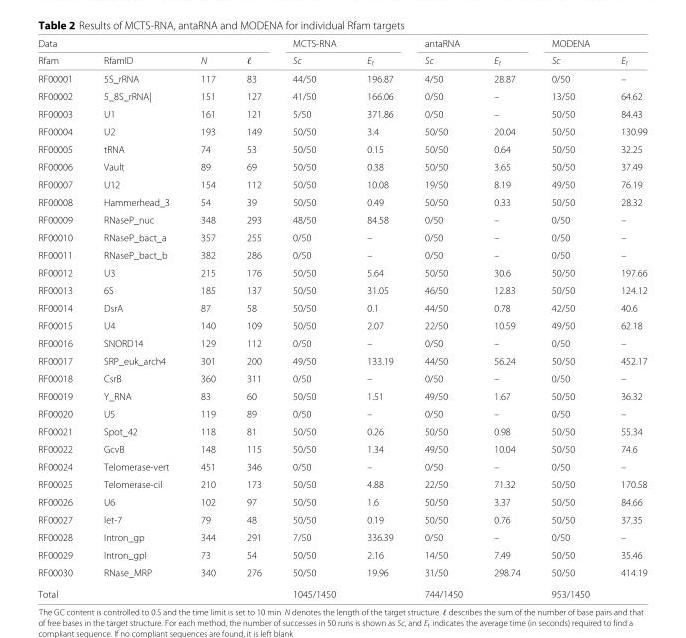table: (37, 37, 646, 599)
table column: (87, 37, 184, 599), (276, 37, 350, 599), (408, 37, 477, 599), (535, 37, 604, 599), (350, 37, 408, 599), (477, 37, 535, 599), (37, 37, 87, 599), (184, 37, 230, 599), (230, 37, 276, 599), (604, 37, 646, 599)
table column header: (37, 37, 646, 69)
table row: (37, 563, 646, 582), (37, 51, 646, 69), (37, 69, 646, 87), (37, 104, 646, 122), (37, 122, 646, 140), (37, 157, 646, 175), (37, 192, 646, 210), (37, 210, 646, 228), (37, 245, 646, 263), (37, 263, 646, 281), (37, 298, 646, 316), (37, 316, 646, 334), (37, 351, 646, 369), (37, 386, 646, 404), (37, 404, 646, 422), (37, 439, 646, 457), (37, 457, 646, 475), (37, 492, 646, 510), (37, 510, 646, 528), (37, 545, 646, 563), (37, 87, 646, 104), (37, 140, 646, 157), (37, 175, 646, 192), (37, 228, 646, 245), (37, 281, 646, 298), (37, 334, 646, 351), (37, 369, 646, 386), (37, 422, 646, 439), (37, 475, 646, 492), (37, 528, 646, 545), (37, 582, 646, 599), (37, 37, 646, 51)
table spanning cell: (37, 37, 276, 51), (276, 37, 408, 51), (408, 37, 535, 51), (535, 37, 646, 51)
